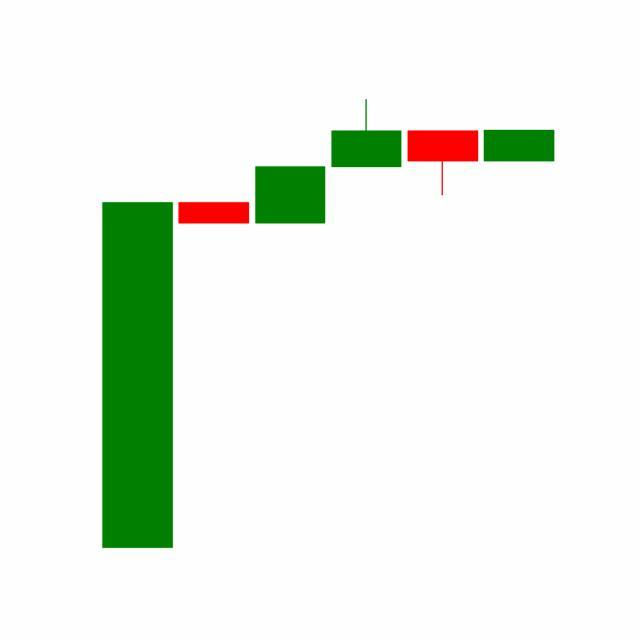Hanging Man: (404, 130, 482, 197)
